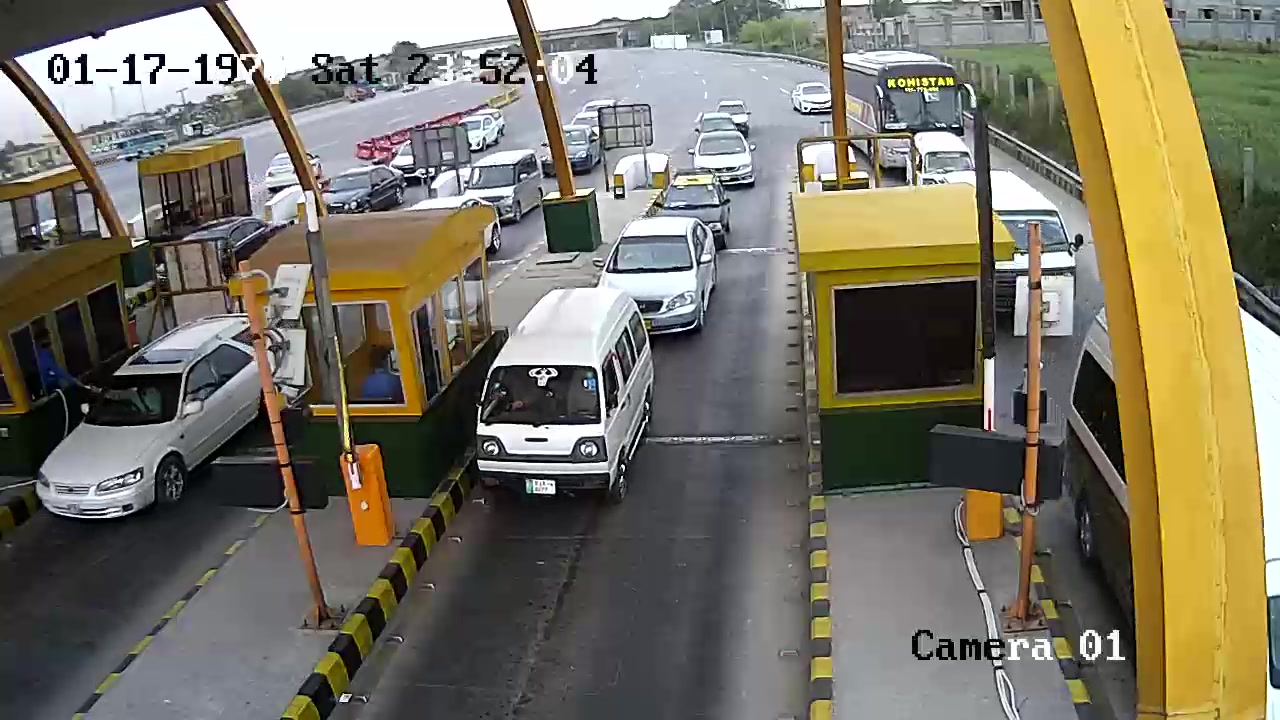F1: (470, 284, 661, 516)
